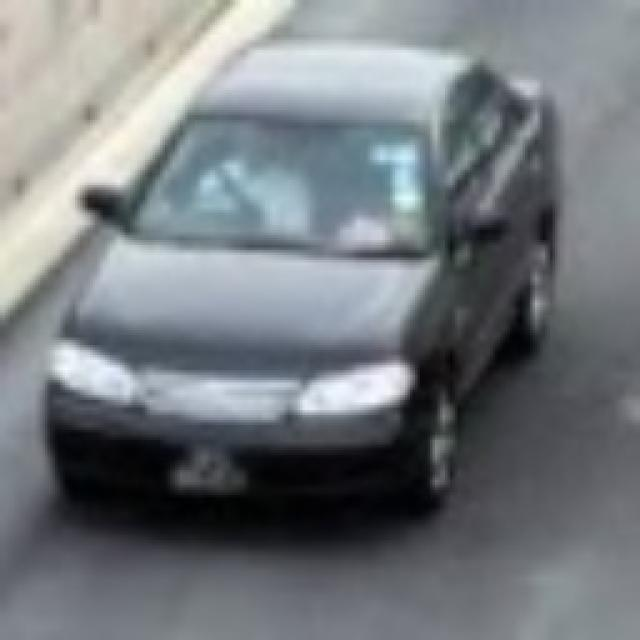windshield: (145, 110, 431, 264)
